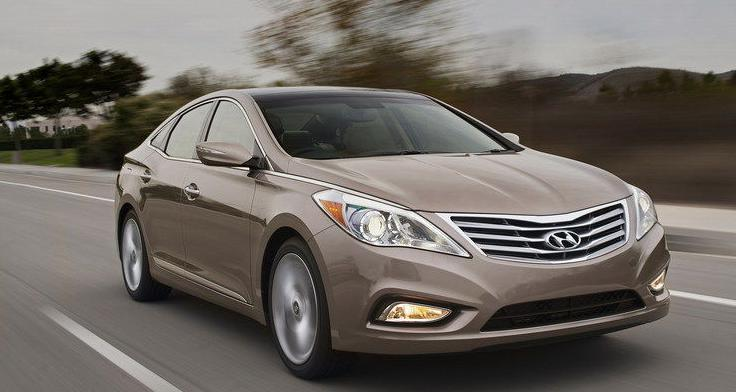Car: (63, 65, 705, 390)
